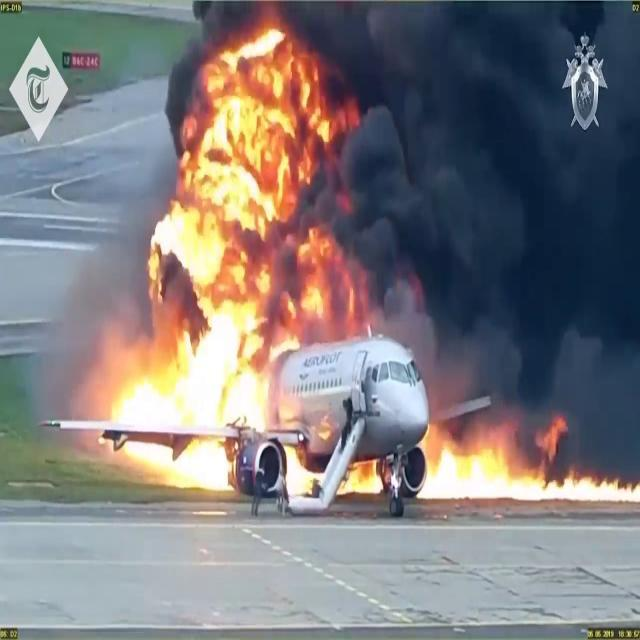Fire: (88, 20, 342, 488), (428, 412, 640, 503)
Smoke: (292, 2, 639, 394)
